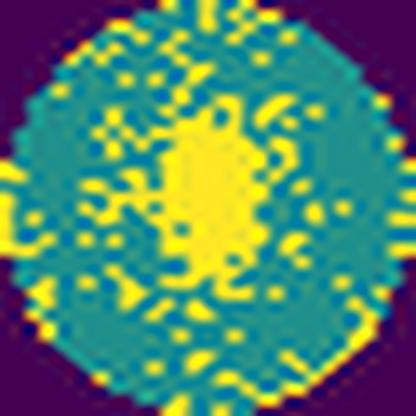Center: (77, 95, 271, 306)
